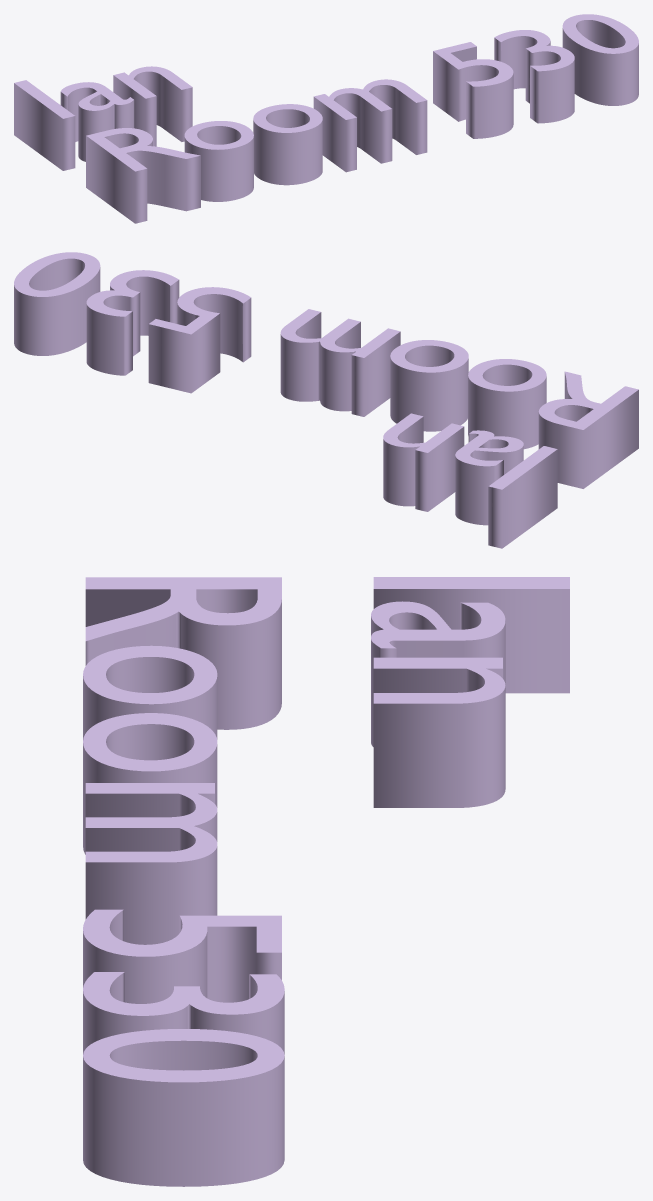
Rendered from ian-530.gltf.
3 renders of one model, top to bottom at view 1: azimuth 30°, elevation 25°; view 2: azimuth 150°, elevation 25°; view 3: azimuth 270°, elevation 25°, orthographic. The views are drawn at different scales.
Visible parts, largest first — view 1: Text; view 2: Text; view 3: Text.
Part boxes in pixels (x1,y1,x2,y2): Text: (14,14,638,223); Text: (14,252,638,548); Text: (83,577,569,1186).
Size of the model in its own units: 4.15 by 0.4 by 1.69.
